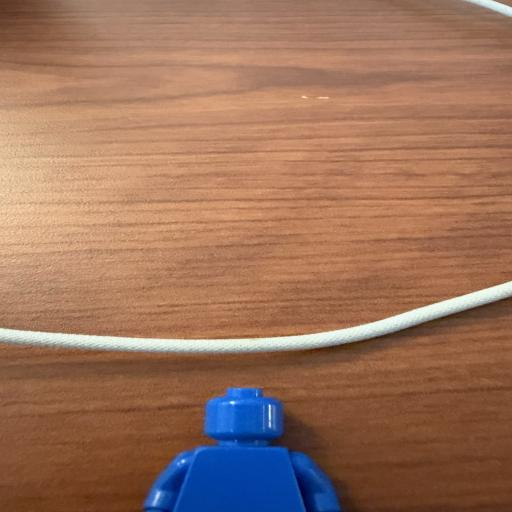blue_minifig: (143, 387, 343, 512)
